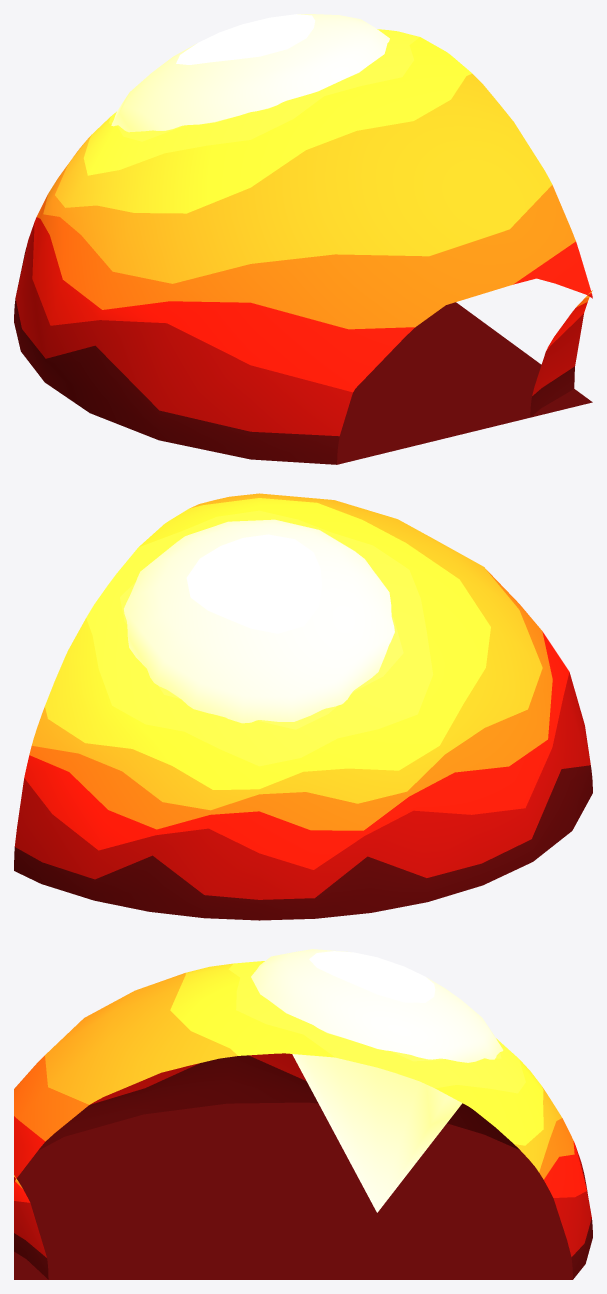
File: shot_charge_b190.glb
3 views of the same model, one above another, from view 1: azimuth 30°, elevation 25°; view 2: azimuth 150°, elevation 25°; view 3: azimuth 270°, elevation 25° (orthographic). The views are drawn at different scales.
Visible parts, largest first — view 1: charge_twin7_b_fire_shot_charge_b190, charge_twin7_b_core_shot_charge_b190, charge_twin7_a_fire_shot_charge_b190; view 2: charge_twin7_b_fire_shot_charge_b190, charge_twin7_b_core_shot_charge_b190; view 3: charge_twin7_b_fire_shot_charge_b190, charge_twin7_b_core_shot_charge_b190, charge_twin7_a_fire_shot_charge_b190.
Part boxes in pixels (<box>): charge_twin7_b_fire_shot_charge_b190: <box>14,29,592,464</box>; charge_twin7_b_core_shot_charge_b190: <box>111,14,389,132</box>; charge_twin7_a_fire_shot_charge_b190: <box>530,290,592,417</box>; charge_twin7_b_fire_shot_charge_b190: <box>14,493,592,920</box>; charge_twin7_b_core_shot_charge_b190: <box>124,519,394,723</box>; charge_twin7_b_fire_shot_charge_b190: <box>14,961,592,1279</box>; charge_twin7_b_core_shot_charge_b190: <box>251,949,503,1212</box>; charge_twin7_a_fire_shot_charge_b190: <box>14,1175,48,1279</box>.
Size of the model in its own units: 7.97 by 5.37 by 11.
